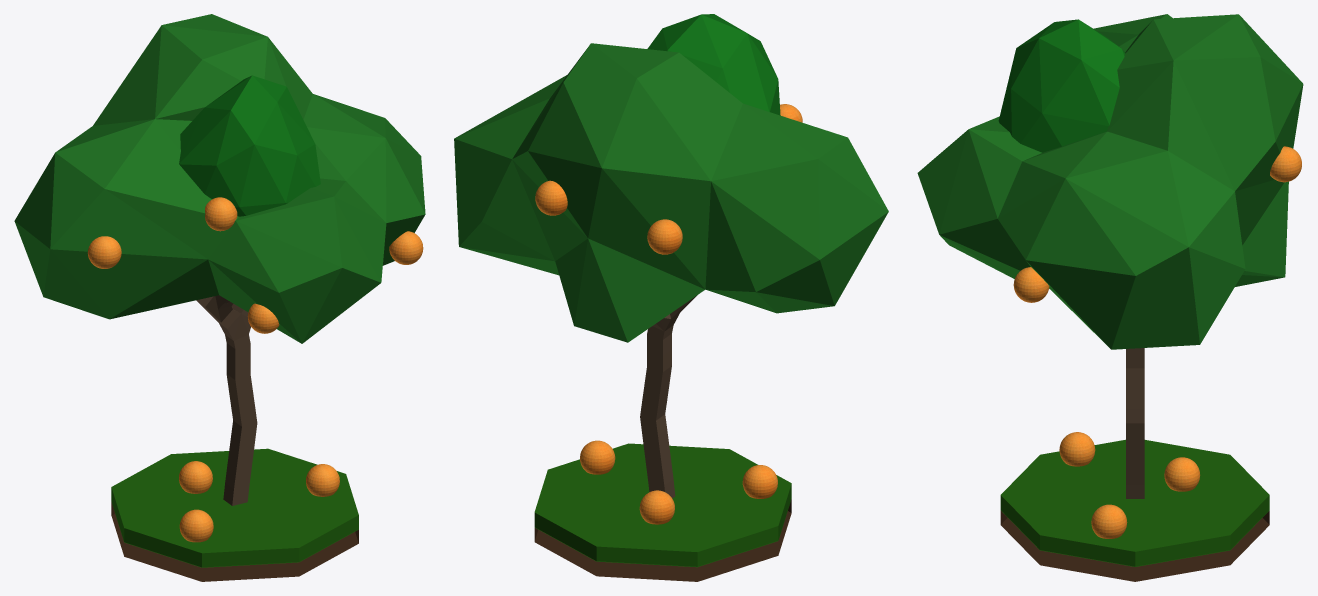
File: orange_tree_finale.glb
3 renders of one model, left to right at view 1: azimuth 30°, elevation 25°; view 2: azimuth 150°, elevation 25°; view 3: azimuth 270°, elevation 25°, orthographic. The views are drawn at different scales.
Visible parts, largest first — view 1: Mball.008, Circle, Bush1, Vert, Sphere.007, Sphere.005, Sphere.008, Sphere, Sphere.006, Sphere.002, Sphere.001; view 2: Mball.008, Circle, Bush1, Vert, Sphere.003, Sphere.005, Sphere.008, Sphere.007, Sphere.004; view 3: Mball.008, Circle, Bush1, Vert, Sphere.008, Sphere.005, Sphere.007, Sphere.002, Sphere.004.
Part boxes in pixels (x1,y1,x2,y2): Mball.008: (14,14,425,343); Circle: (111,448,358,581); Bush1: (179,75,320,216); Vert: (196,295,257,505); Sphere.007: (179,509,213,542); Sphere.005: (306,464,339,496); Sphere.008: (179,461,212,493); Sphere: (87,236,121,268); Sphere.006: (205,197,237,231); Sphere.002: (389,231,423,264); Sphere.001: (247,303,279,333); Mball.008: (454,43,888,342); Circle: (534,443,791,581); Bush1: (647,14,780,115); Vert: (640,295,697,498); Sphere.003: (647,219,682,254); Sphere.005: (580,440,615,474); Sphere.008: (639,490,674,524); Sphere.007: (742,465,777,498); Sphere.004: (535,180,567,215); Mball.008: (917,14,1303,349); Circle: (1000,439,1269,581); Bush1: (998,19,1125,152); Vert: (1126,348,1144,498); Sphere.008: (1164,457,1200,491); Sphere.005: (1091,504,1127,538); Sphere.007: (1059,432,1095,466); Sphere.002: (1013,267,1049,302); Sphere.004: (1270,146,1301,182).
Bounding box in the file's own units: 7.86 × 9.24 × 6.45.
Materials: 14 (9 with a texture image).
